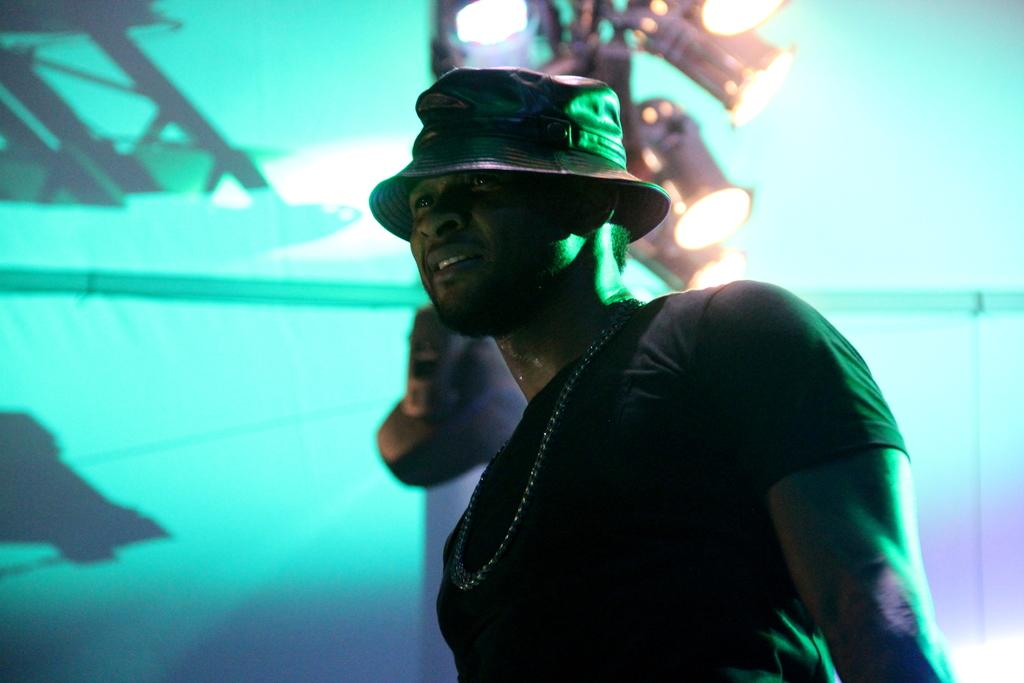Hat: (368, 64, 668, 247)
